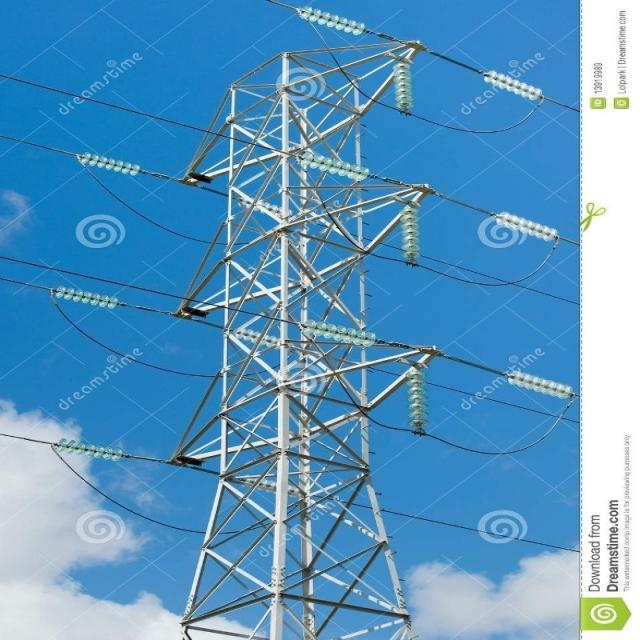non-critical vegetation: (167, 63, 433, 623)
